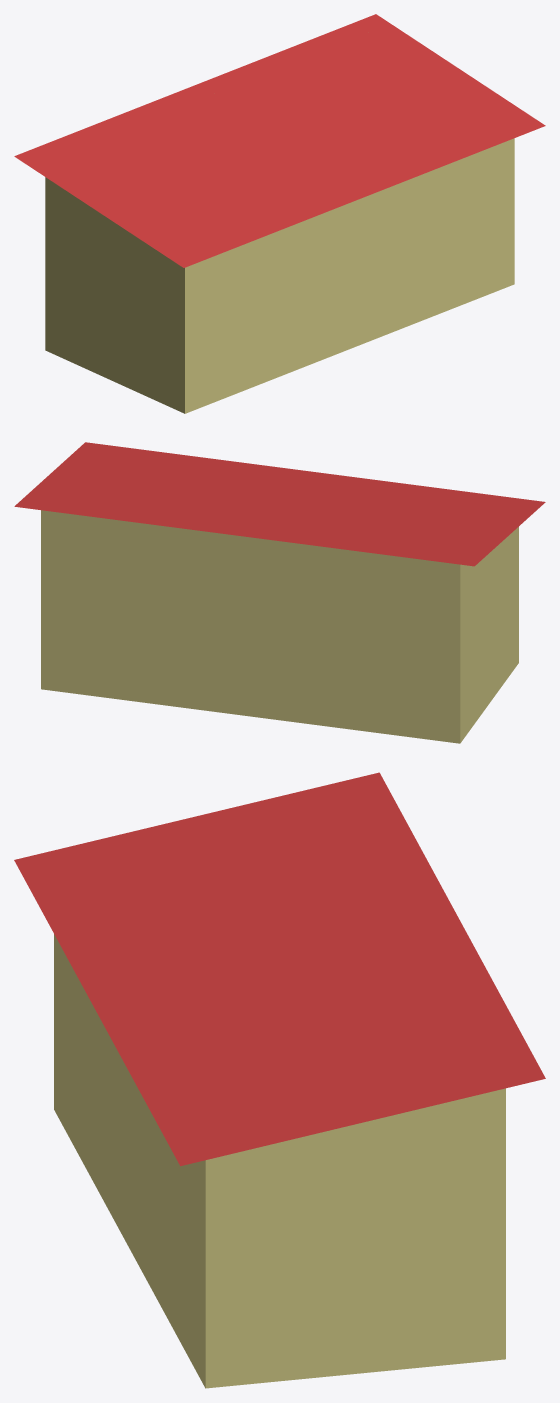
3 renders of one model, top to bottom at view 1: azimuth 30°, elevation 25°; view 2: azimuth 150°, elevation 25°; view 3: azimuth 270°, elevation 25°, orthographic. The views are drawn at different scales.
Size of the model in its own units: 24.15 by 15.88 by 9.6.
